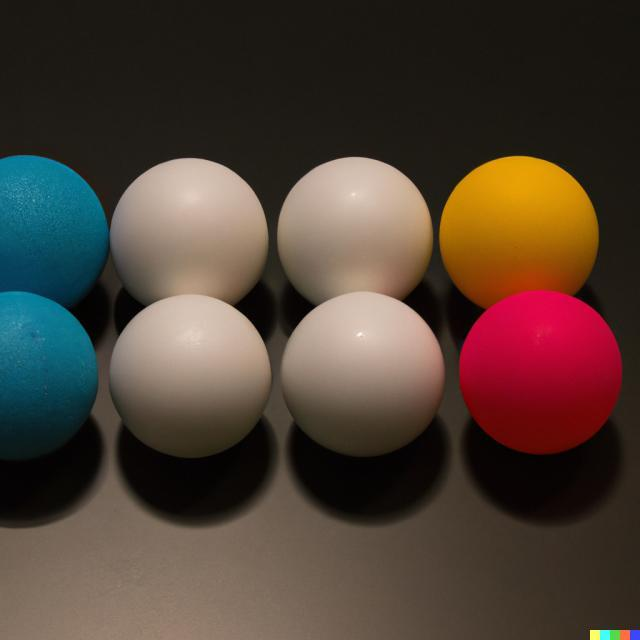white: (110, 294, 274, 458), (283, 292, 443, 457), (113, 158, 270, 308), (278, 157, 432, 303)
